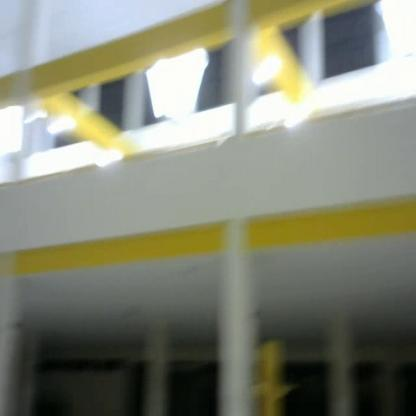pole: (244, 334, 298, 416)
